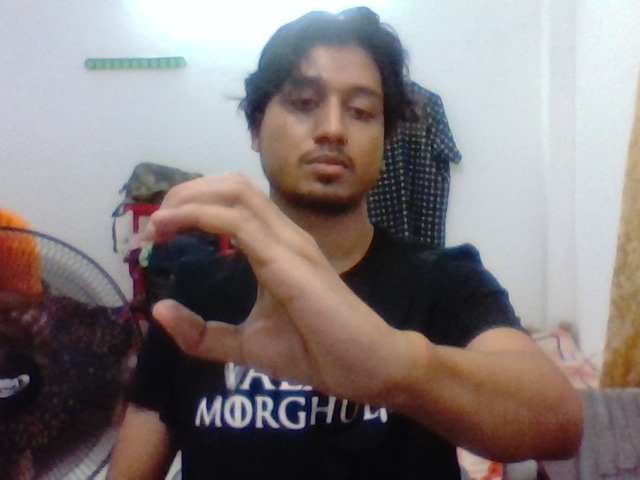C: (129, 167, 351, 378)
